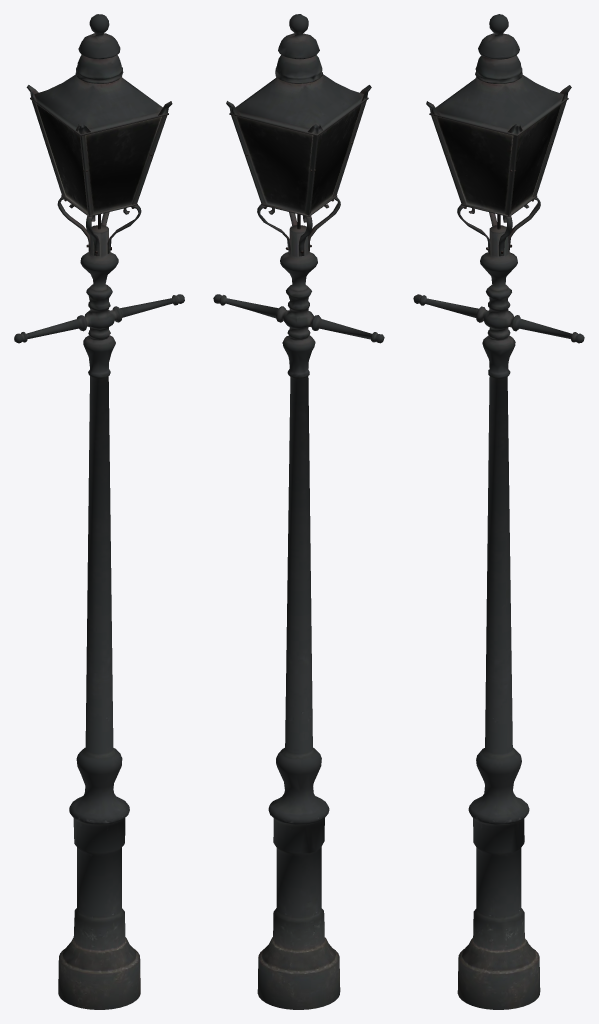
Rendered from street_lamp_01.glb.
The picture shows the model from 3 angles, left to right: view 1: azimuth 30°, elevation 25°; view 2: azimuth 150°, elevation 25°; view 3: azimuth 330°, elevation 25°; orthographic projection.
Parts seen in each view (by area): view 1: street_lamp_01; view 2: street_lamp_01; view 3: street_lamp_01.
Boxes of the visible parts, left/top/right/bottom form: street_lamp_01: left=14, top=14, right=184, bottom=1009; street_lamp_01: left=213, top=14, right=384, bottom=1009; street_lamp_01: left=413, top=14, right=584, bottom=1009.
Bounding box in the file's own units: 0.7039 × 3.87 × 0.385.
Materials: 2 (2 with a texture image).
